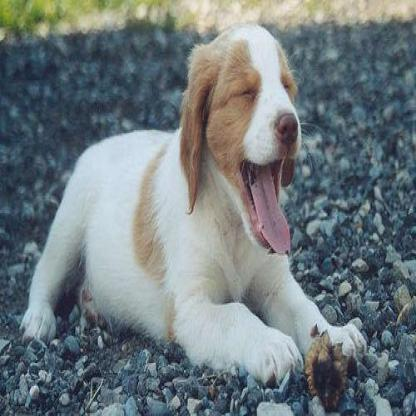Brittany_spaniel: (18, 20, 368, 389)
